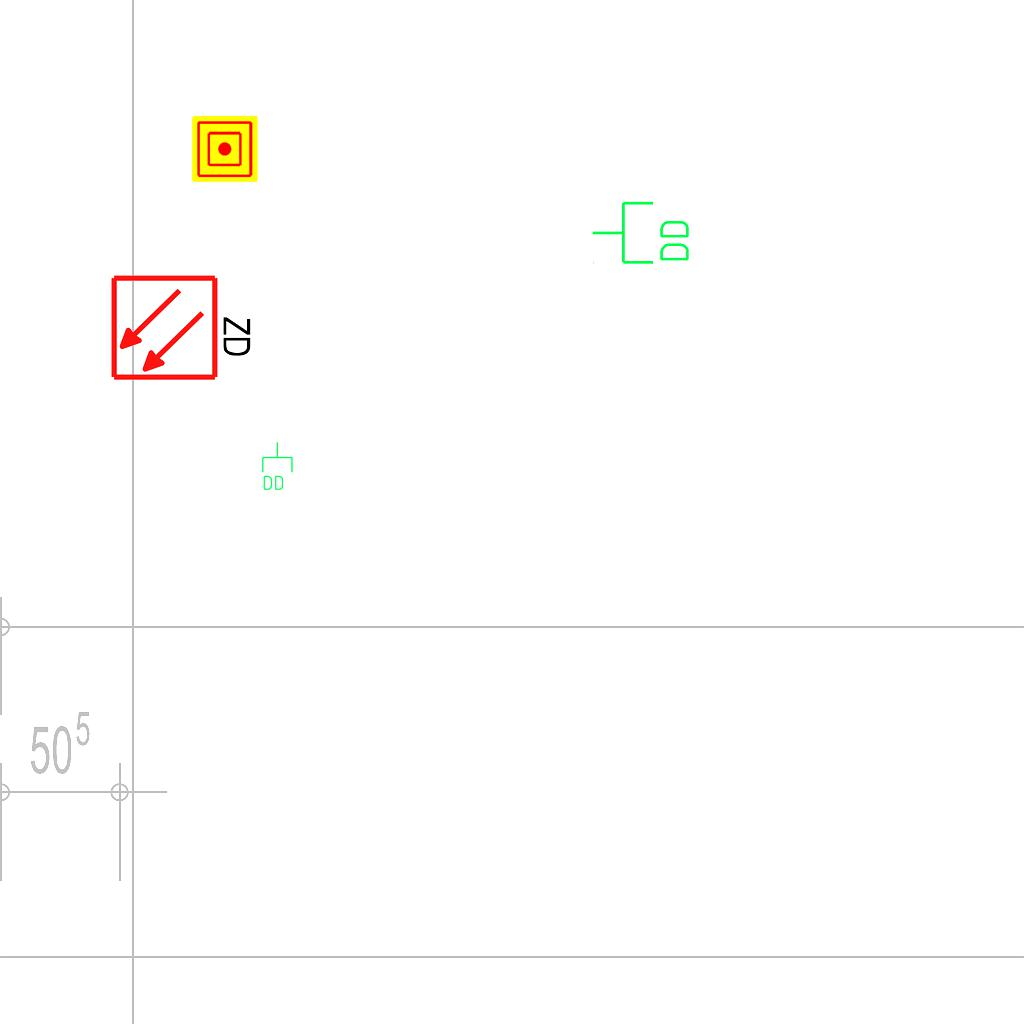Datenanschluss_zweifach: (590, 199, 693, 268), (260, 441, 294, 492)
NAM-Nichtautomatischer_Melder: (192, 116, 258, 182)
ZD_Melder_in_Zwischendecke_mit_Revisionsoeffnung_mind_40_x_40_cm: (109, 269, 258, 383)
